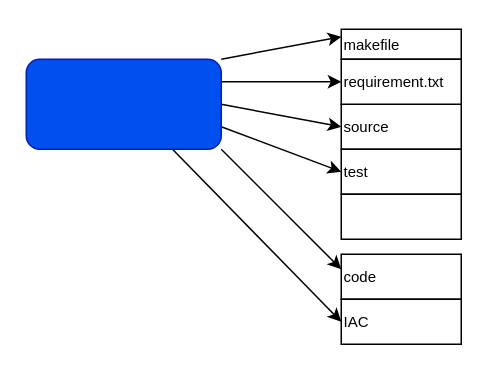
This 488x371 diagram has some shape labels left out. The centre of each missing label's shape, as x and y in pixels:
"Dockerfile" goes at (400,216).
"Scaffold" goes at (123,103).
